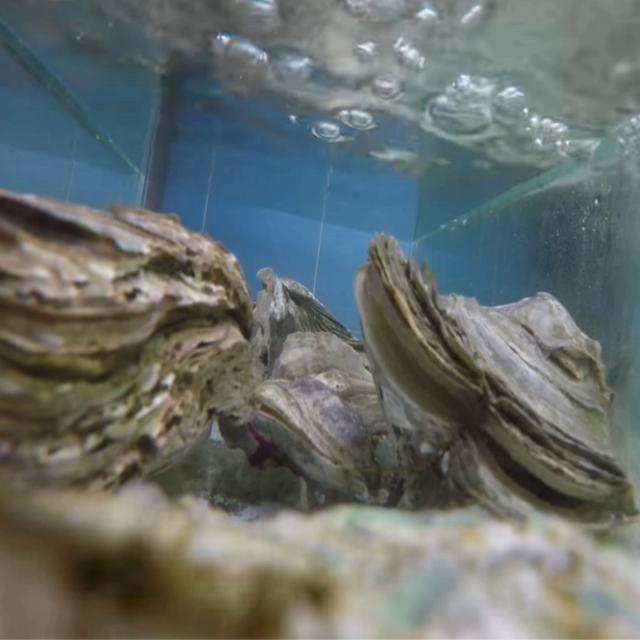Oyster-Closed: (0, 188, 254, 530), (248, 331, 407, 509)
Oyster-Indeterminate: (0, 478, 640, 640), (252, 266, 368, 383)
Oyster-Open: (354, 233, 640, 545)
